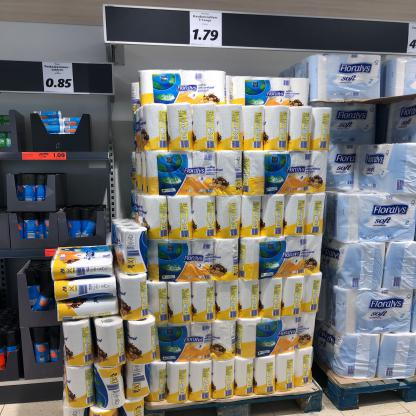prtg: (191, 12, 223, 47), (43, 63, 75, 93), (23, 153, 67, 161), (408, 24, 416, 54)
